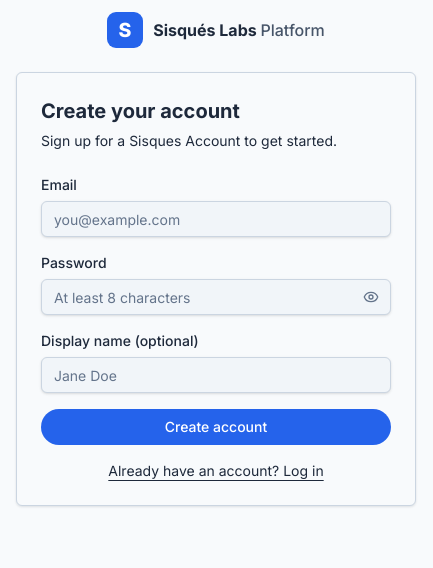
Scenario: RegisterScreen › blocks submission and shows validation errors for invalid email and a short password
This screenshot has width=433, height=568.
Type "not-an-email" into the field labelled "Email".
click(216, 219); type("not-an-email")  # box left=41, top=201, right=391, bottom=237
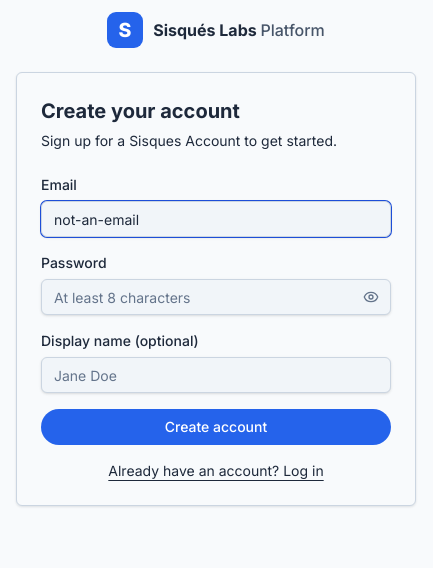
Type "short" into the password field labelled "Password".
click(216, 297); type("short")  # box left=41, top=279, right=391, bottom=315
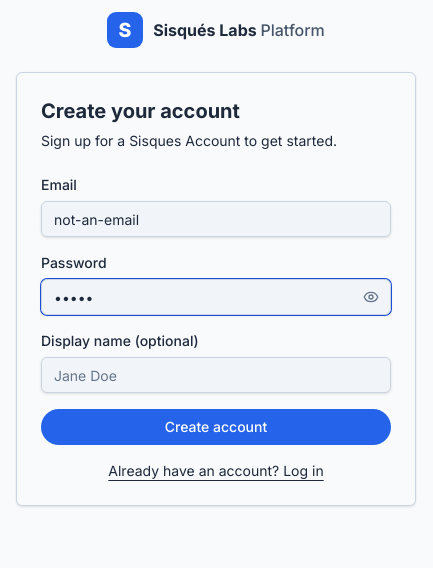
Click the button "Create account".
click(216, 427)  # box left=41, top=409, right=391, bottom=445
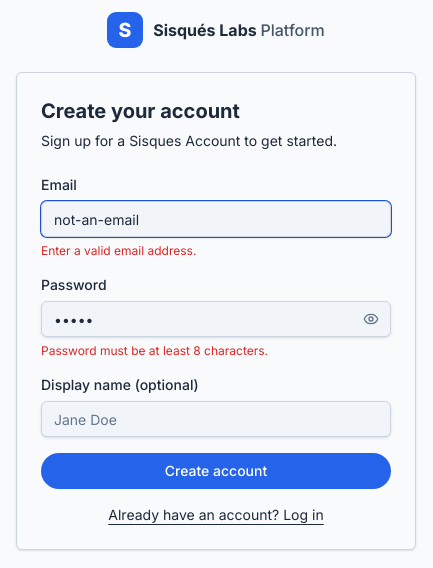
Check: the text "Enter a valid email address." is shown, box left=41, top=243, right=196, bottom=258
Check: the text "Password must be at least 8 characters." is shown, box left=41, top=343, right=268, bottom=358
